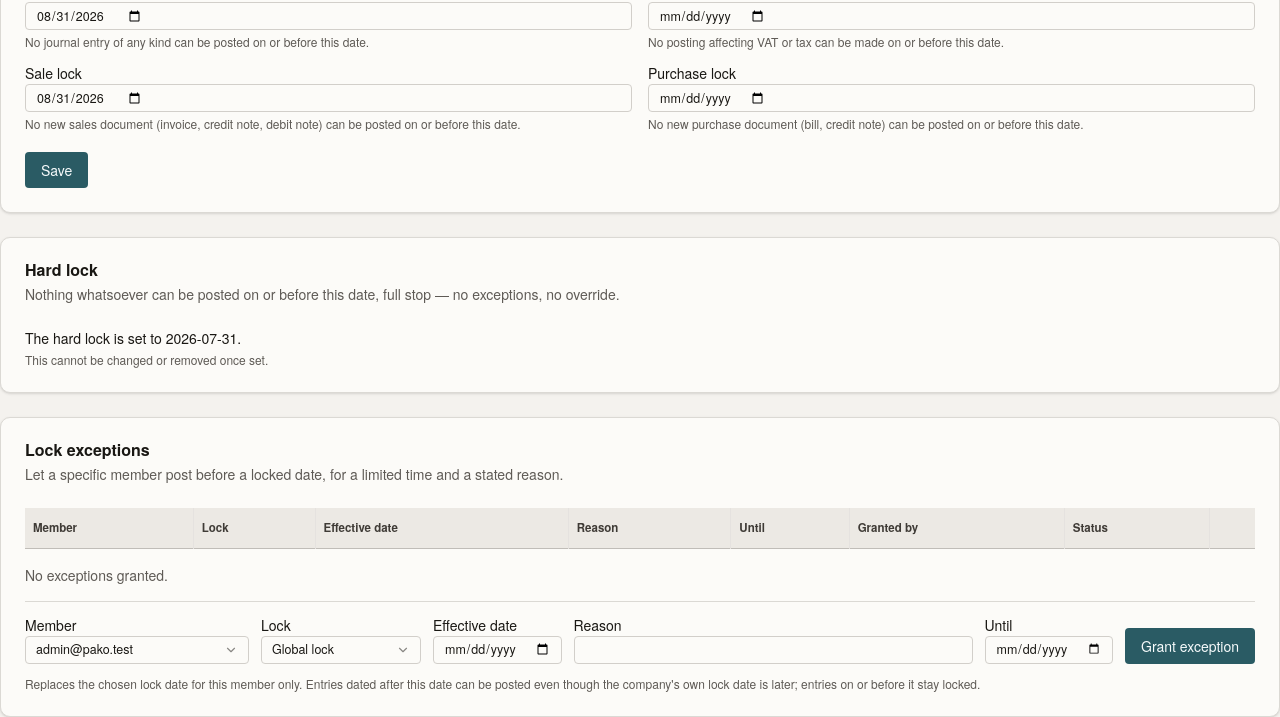
Scenario: LockDatesSettings › grants and revokes a lock exception for an admin
The image size is (1280, 717).
(page scrolled)
Note: Open the Member dropdown and select "viewer@pako.test"
Step 1. Click the dropdown named "Member" → (137, 650), box [25, 636, 249, 664]
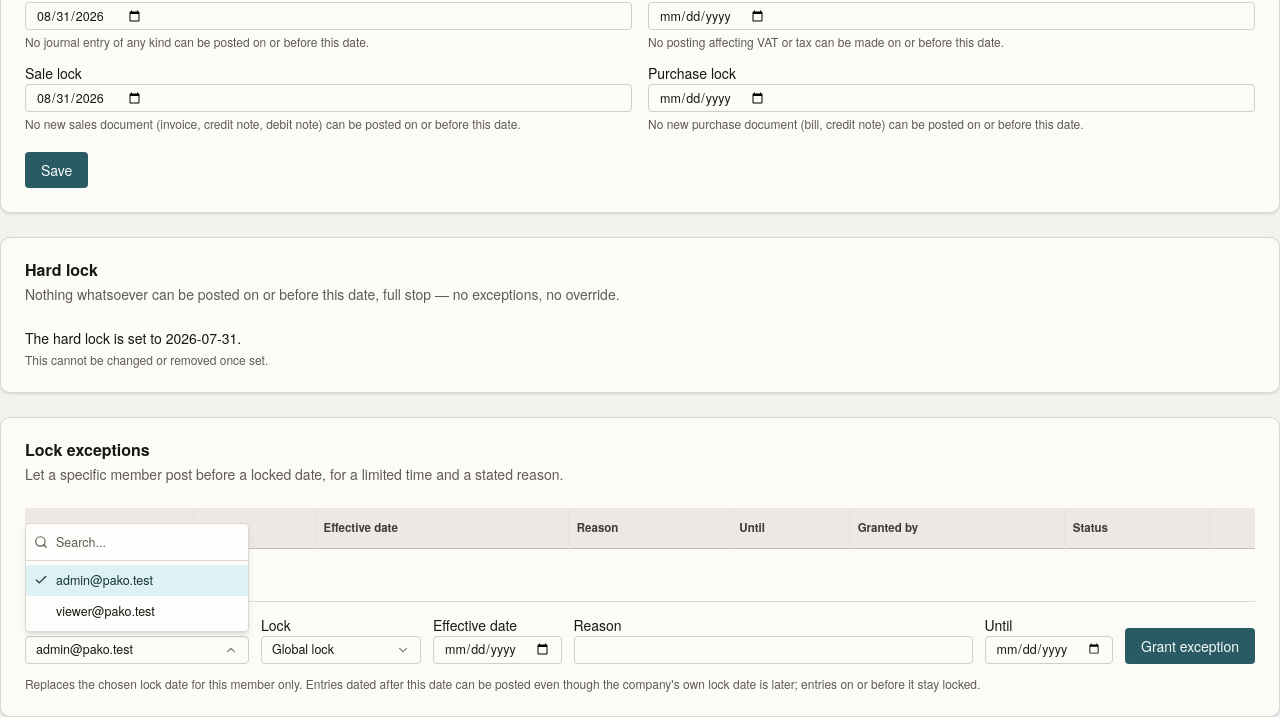
Step 2. Press the mouse on the option "viewer@pako.test" → (137, 611), box [26, 596, 248, 627]
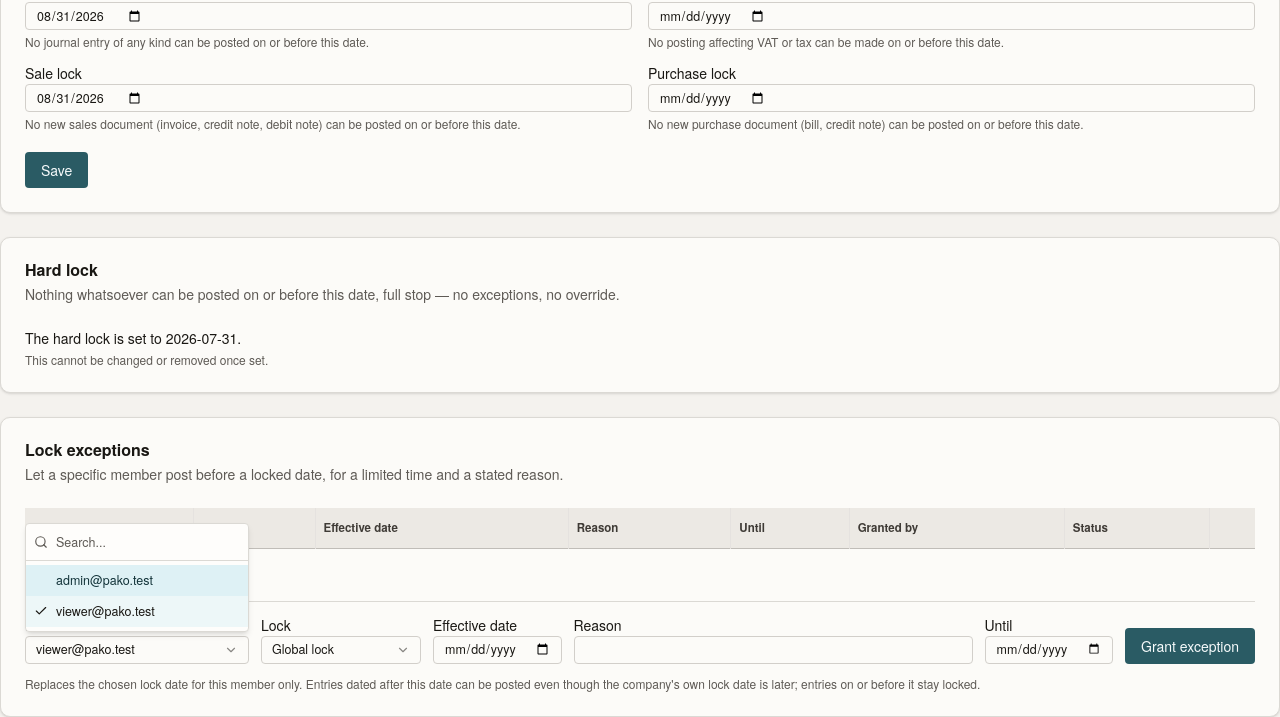
Step 3. Type "2026-08-01" into the date field labelled "Effective date" → (497, 650), box [433, 636, 562, 664]
Step 4. Type "Late supplier invoice" into the field labelled "Reason" → (773, 650), box [574, 636, 972, 664]
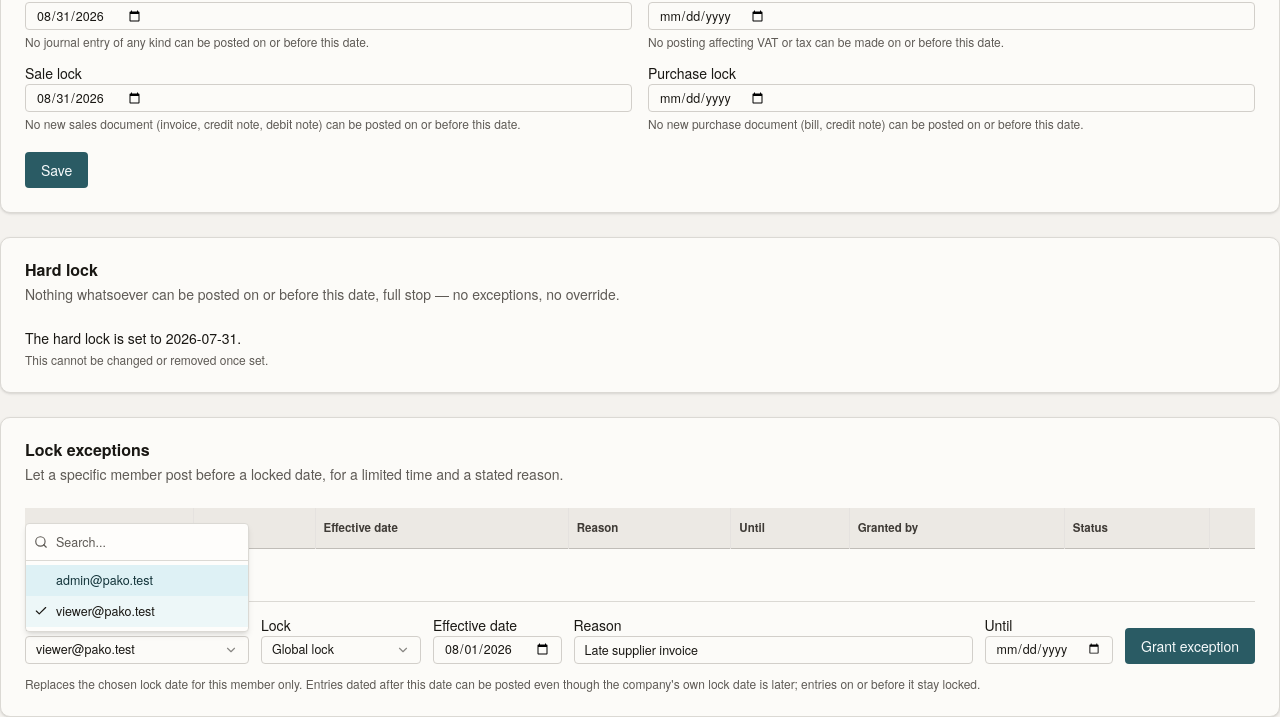
Step 5. Type "2026-09-30" into the date field labelled "Until" → (1049, 650), box [984, 636, 1113, 664]
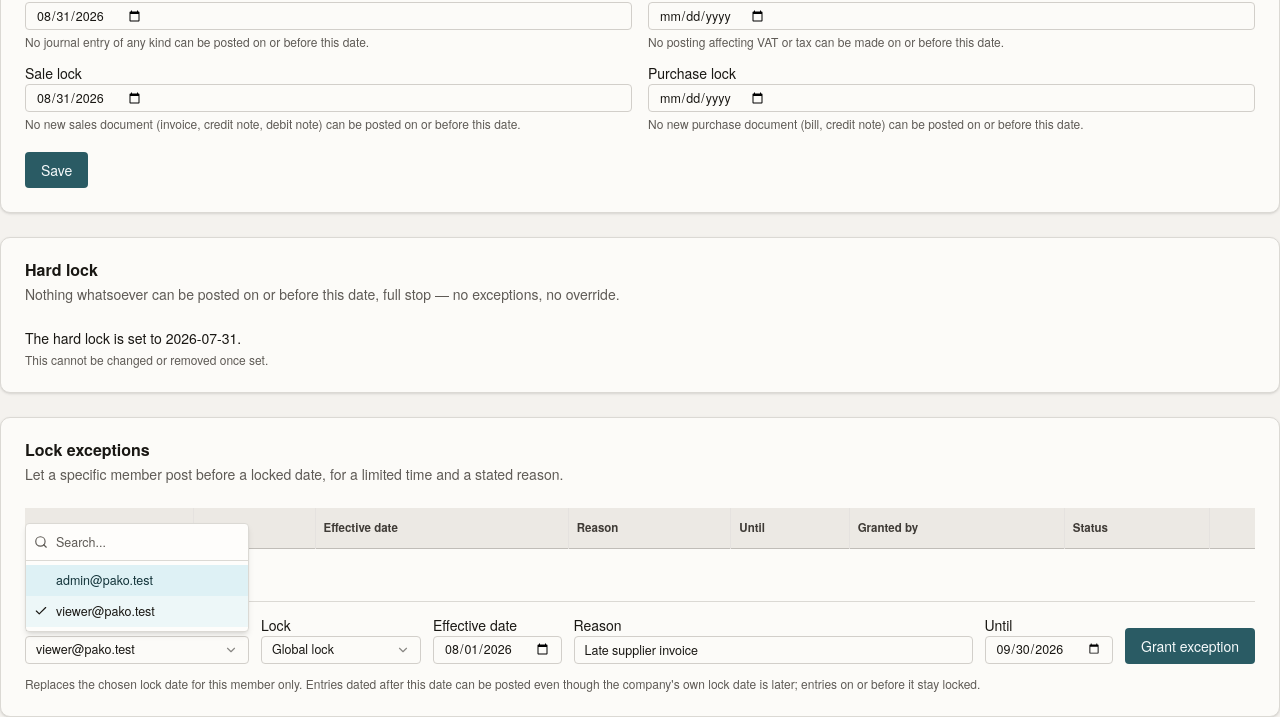
Step 6. Click the button "Grant exception" → (1190, 646), box [1125, 628, 1255, 664]
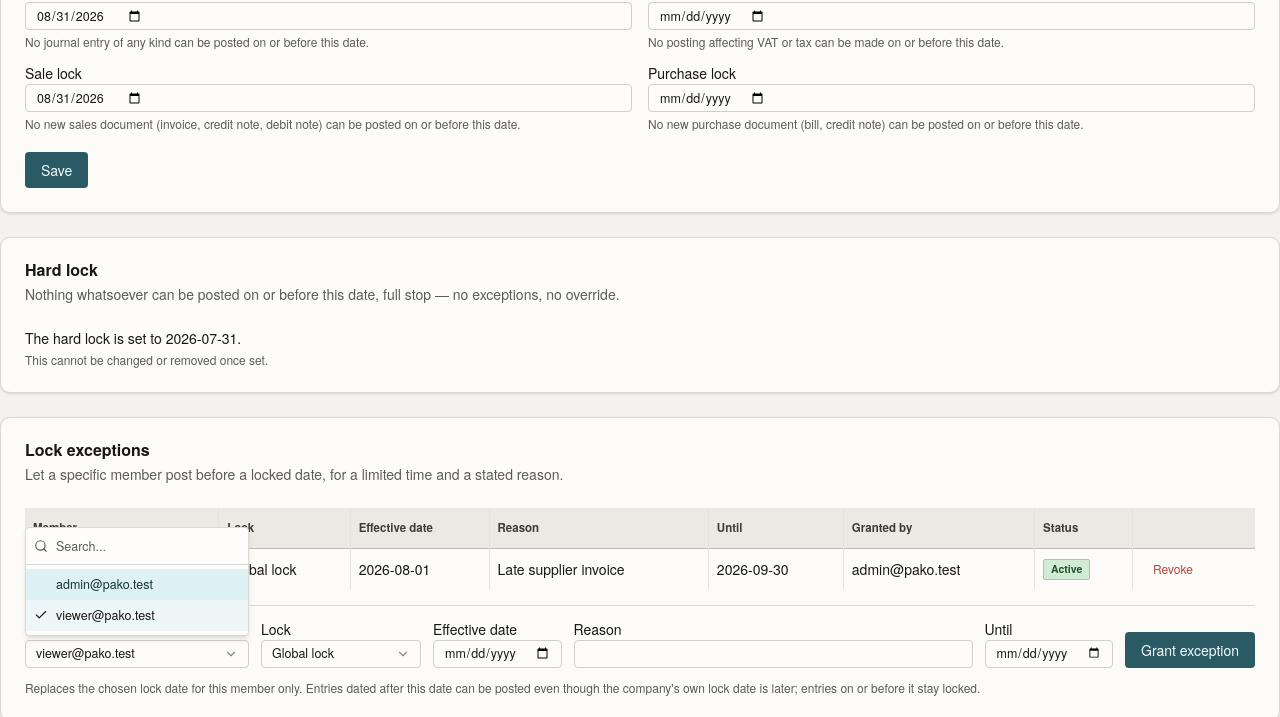
Result: the text "Late supplier invoice" is shown at [489, 548, 708, 588]
Result: the text "viewer@pako.test" is shown at [25, 548, 219, 588]
Result: the text "admin@pako.test" is shown at [843, 548, 1035, 588]
Step 7. Click the button "Revoke" → (1173, 568), box [1141, 556, 1205, 580]
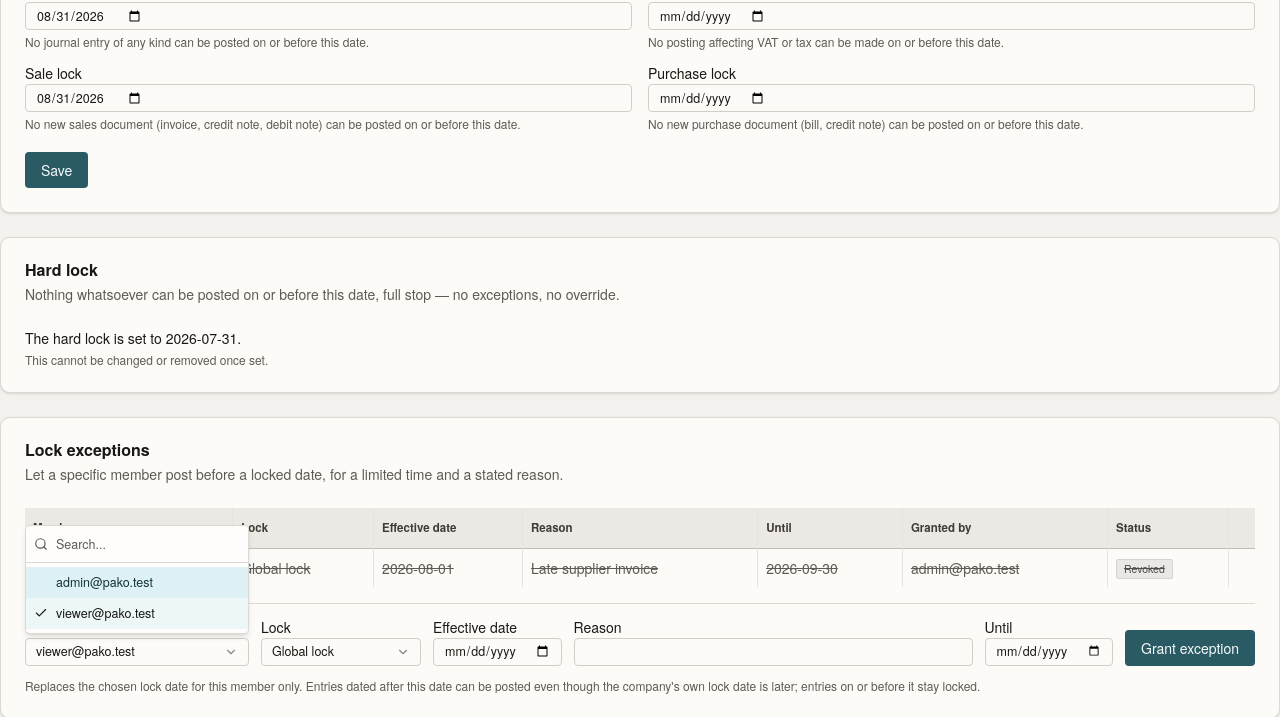
Result: the text "Late supplier invoice" is shown at [522, 548, 758, 587]
Result: the text "Revoked" is shown at [1116, 558, 1173, 579]
